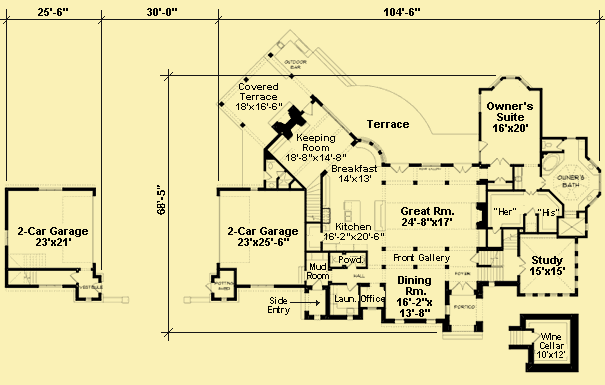door: (449, 281, 474, 292), (388, 161, 409, 173), (453, 162, 472, 173), (518, 254, 527, 275), (300, 102, 314, 115), (489, 158, 507, 167), (479, 139, 489, 153)
large_sink: (539, 139, 552, 151)
stairs: (477, 249, 505, 281), (6, 251, 49, 271), (305, 175, 322, 222), (509, 327, 532, 346), (503, 75, 521, 80)
tub: (543, 152, 563, 173)
windows: (359, 134, 385, 162), (522, 290, 569, 299), (572, 242, 578, 290), (247, 282, 275, 289), (420, 161, 441, 169), (36, 187, 62, 193), (500, 75, 521, 80)
